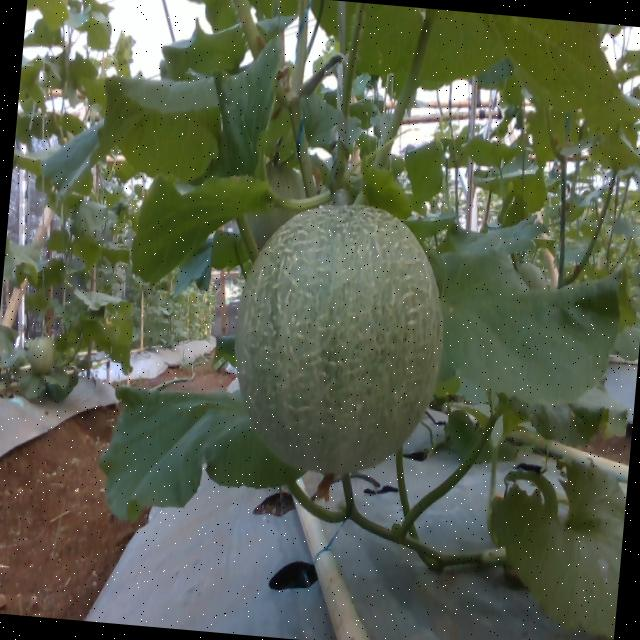melon: (235, 206, 443, 474)
